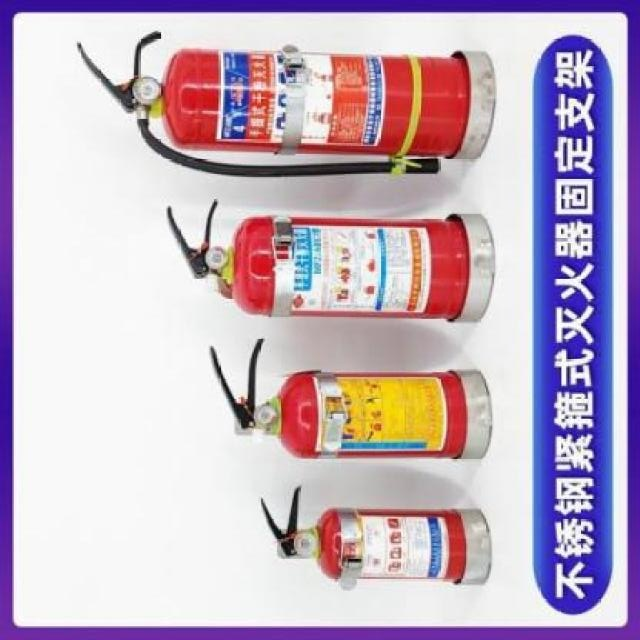fire extinguisher: (75, 31, 471, 177), (166, 199, 471, 319), (208, 338, 468, 459), (259, 483, 466, 591)
